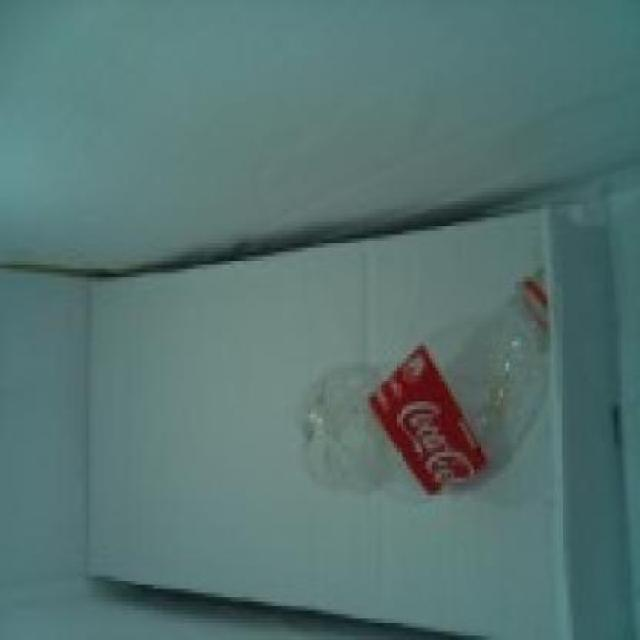Pet_Bottle: (301, 260, 548, 526)
